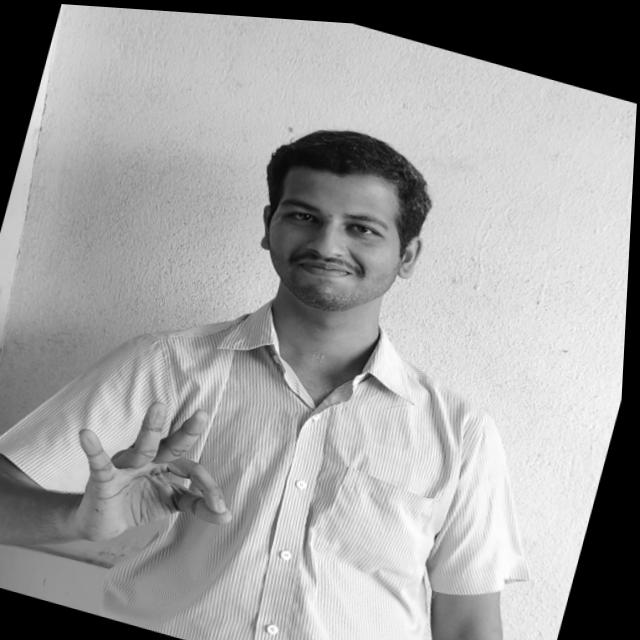Superb: (54, 370, 265, 570)
